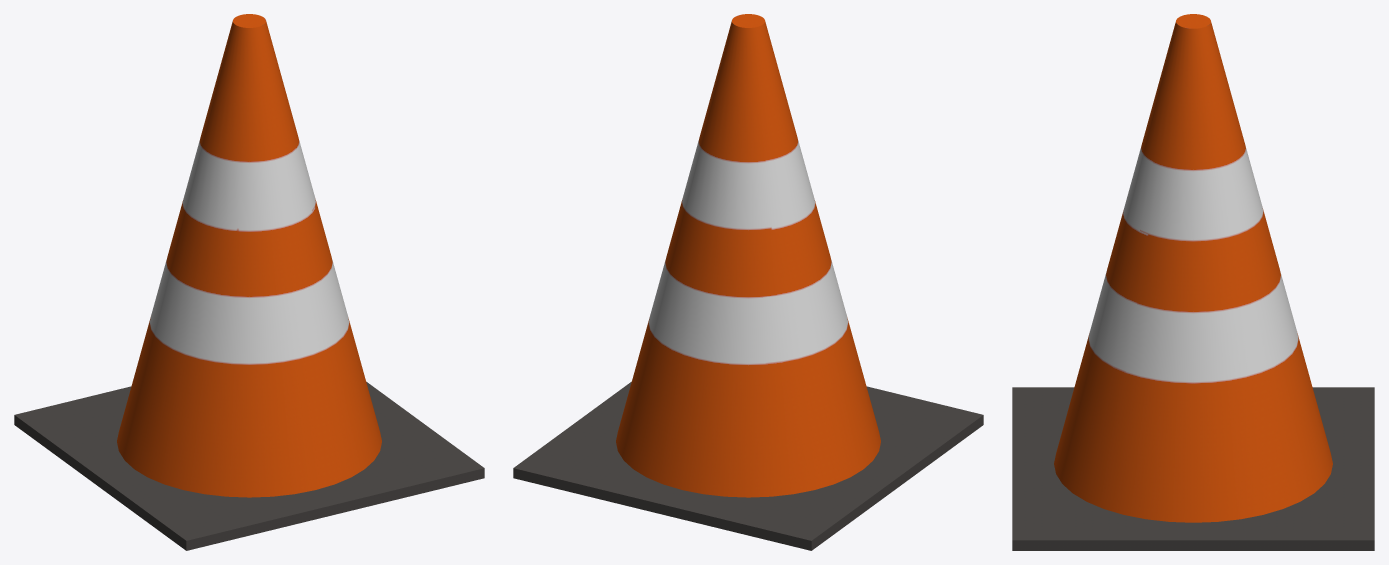
The model's file is Traffic_Cone_1.00.fbx.
The picture shows the model from 3 angles, left to right: view 1: azimuth 30°, elevation 25°; view 2: azimuth 150°, elevation 25°; view 3: azimuth 270°, elevation 25°; orthographic projection. The views are drawn at different scales.
Parts seen in each view (by area): view 1: Traffic_Cone_V1_00, Cube; view 2: Traffic_Cone_V1_00, Cube; view 3: Traffic_Cone_V1_00, Cube.
Part boxes in pixels (left/top/right/bottom): Traffic_Cone_V1_00: left=117, top=14, right=381, bottom=497; Cube: left=14, top=382, right=484, bottom=550; Traffic_Cone_V1_00: left=616, top=14, right=880, bottom=497; Cube: left=513, top=382, right=983, bottom=550; Traffic_Cone_V1_00: left=1054, top=14, right=1332, bottom=522; Cube: left=1012, top=387, right=1374, bottom=550.
Bounding box in the file's own units: 19.4 × 26.77 × 19.4.
Materials: 1 (1 with a texture image).
